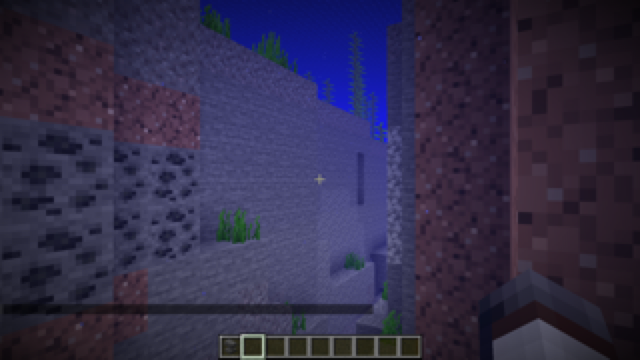coal: (1, 115, 200, 326)
